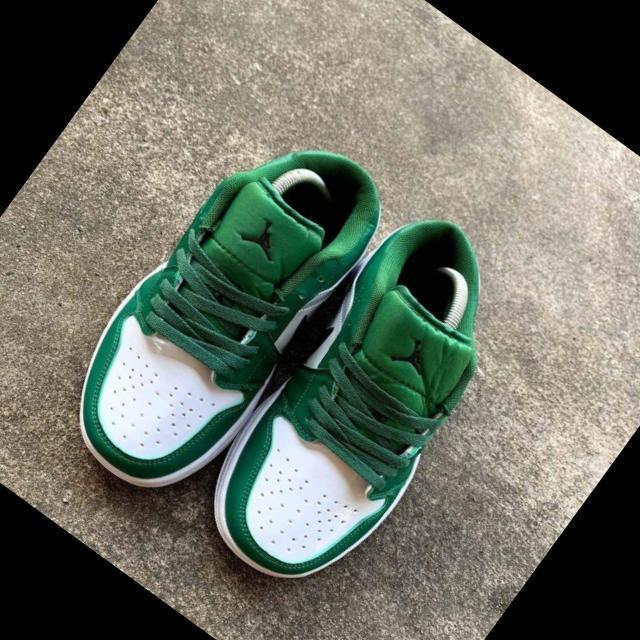nike fake jordan 1: (167, 186, 554, 620), (34, 96, 408, 519)
